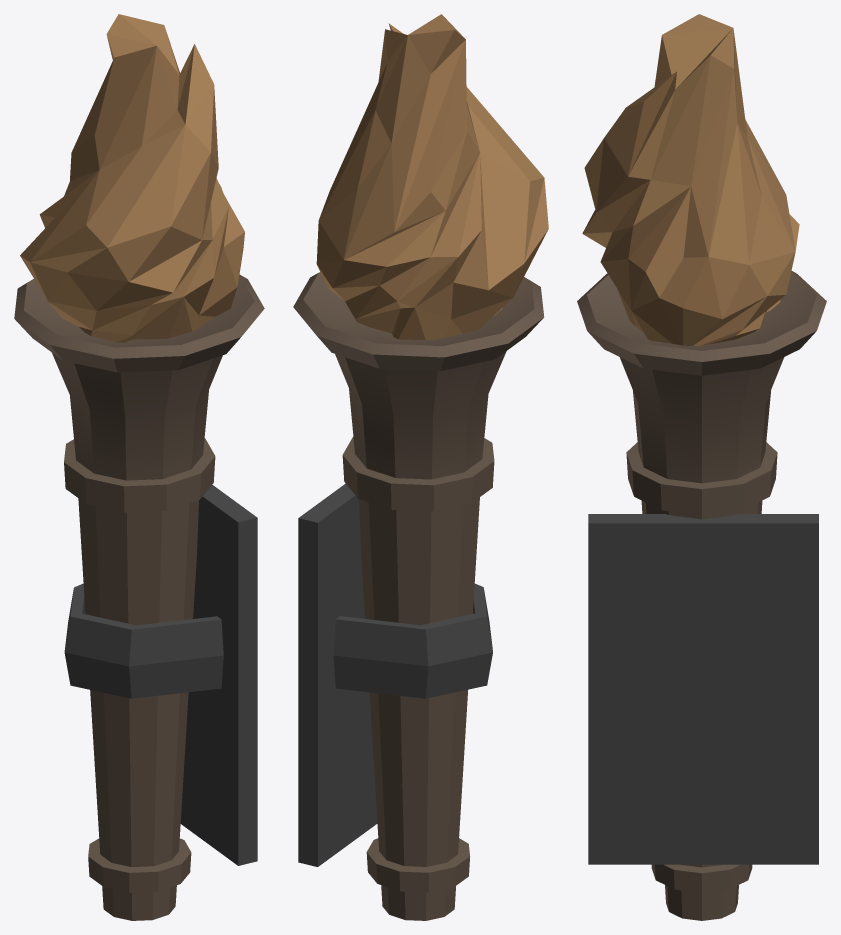
File: LitTorchWall.fbx
3 renders of one model, left to right at view 1: azimuth 30°, elevation 25°; view 2: azimuth 150°, elevation 25°; view 3: azimuth 270°, elevation 25°, orthographic.
Visible parts, largest first — view 1: LitTorch_Wall; view 2: LitTorch_Wall; view 3: LitTorch_Wall.
Boxes of the visible parts, x1,y1,x2,y2 form: LitTorch_Wall: (14, 14, 264, 920); LitTorch_Wall: (293, 14, 548, 920); LitTorch_Wall: (577, 14, 826, 920).
Bounding box in the file's own units: 15.52 × 60.56 × 15.67.
